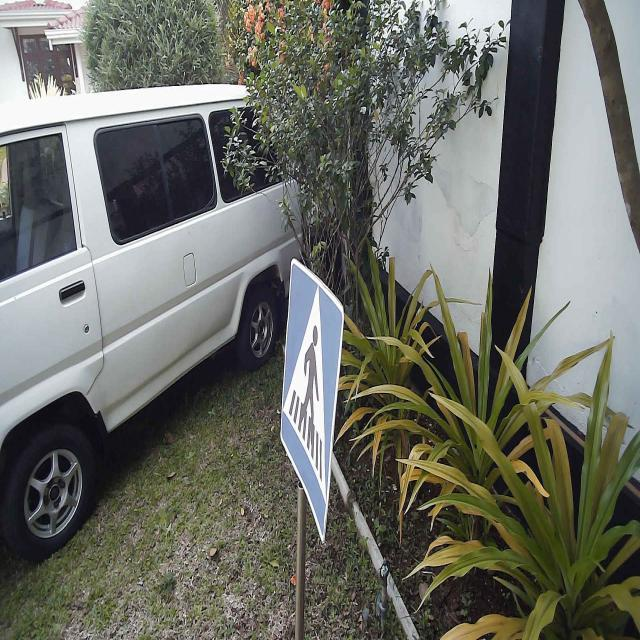crosswalk_sign: (278, 255, 346, 548)
